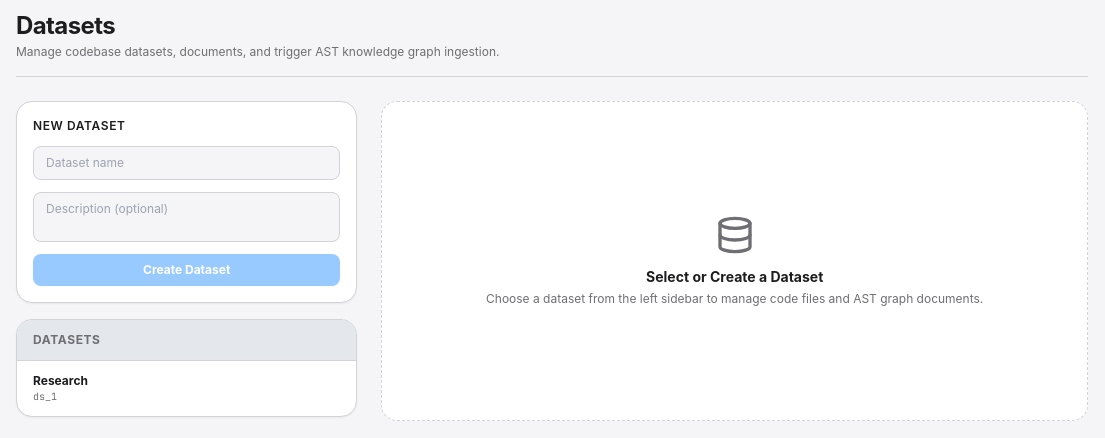
Test: DatasetsPage › loads documents when a dataset is selected
What coordinates should you click on to do the following:
click the text "Research"
I would click on:
 (60, 380)
Its box is [33, 373, 88, 388].
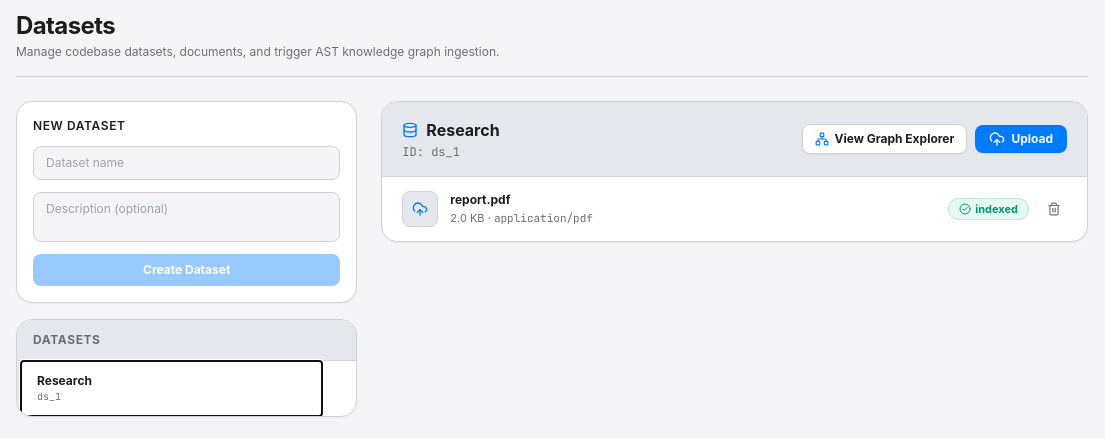
expect the text "report.pdf" is shown: met, box [450, 192, 510, 208]
expect the text "indexed" is shown: met, box [948, 198, 1029, 220]
